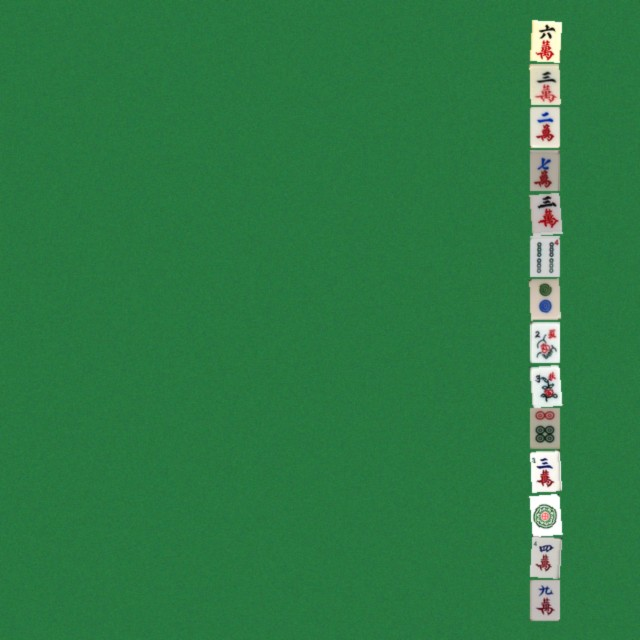tile: (529, 20, 559, 61), (529, 63, 559, 104), (529, 106, 559, 147), (529, 149, 559, 190), (529, 192, 559, 233), (529, 235, 559, 276), (529, 278, 559, 319), (529, 321, 559, 362), (529, 364, 559, 405), (529, 407, 559, 448), (529, 450, 559, 491), (529, 493, 559, 534), (529, 536, 559, 577), (529, 579, 559, 620)
